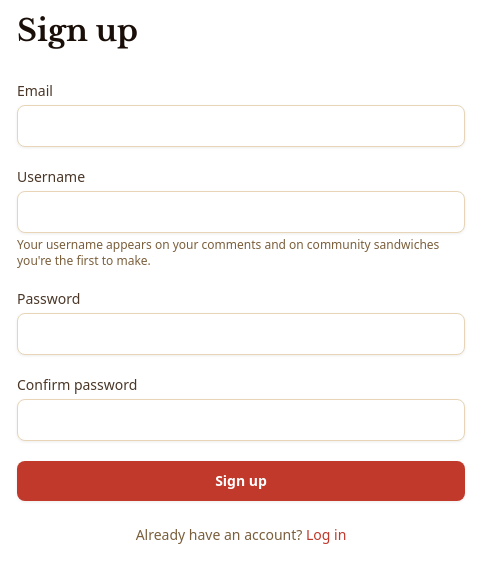
Scenario: SignupPage › disables the submit button while submitting
In the field labelled "Email": (241, 126) [17,105,465,147], type "test@example.com"
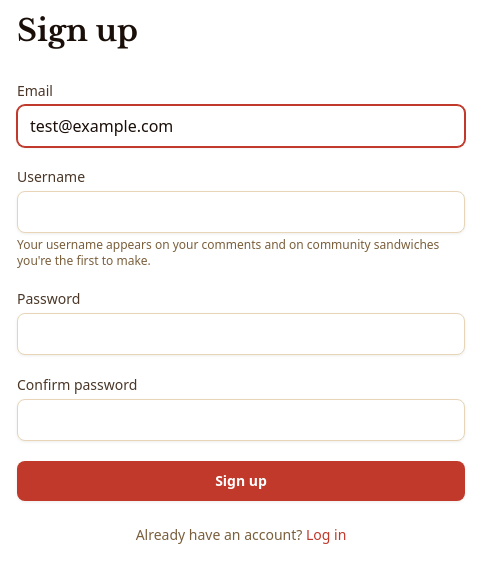
In the field labelled "Username": (241, 212) [17,191,465,233], type "sandwich_fan"
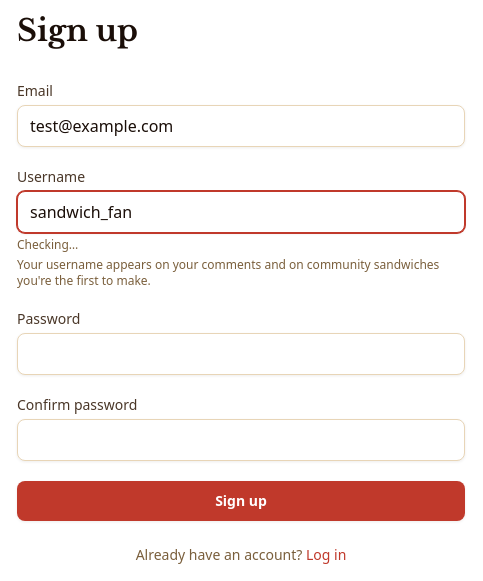
In the password field labelled "Password": (241, 354) [17,333,465,375], type "password123"
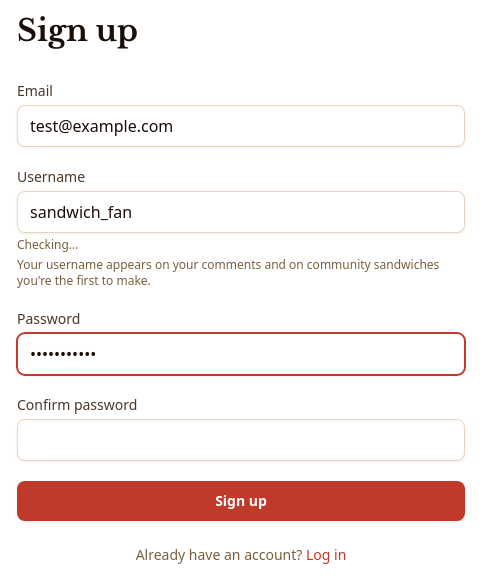
In the password field labelled "Confirm password": (241, 440) [17,419,465,461], type "password123"
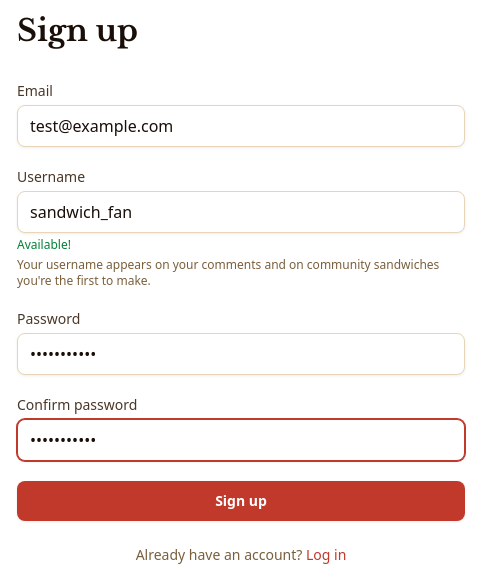
Expected: the text "Available!" is shown, [17,236,71,253]
Click the button "Sign up": (241, 501) [17,481,465,521]
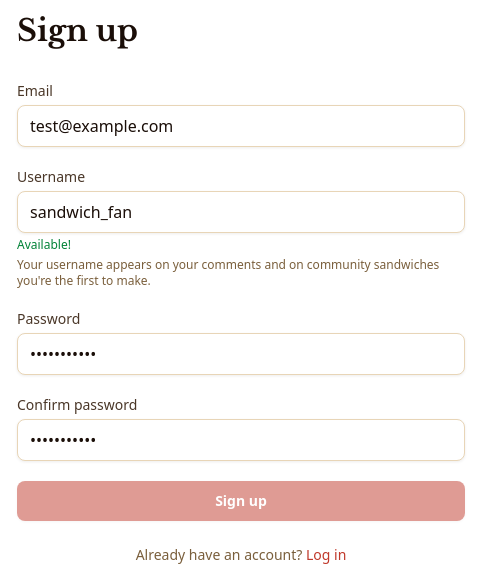
Expected: the button "Sign up" is disabled, [17,481,465,521]
